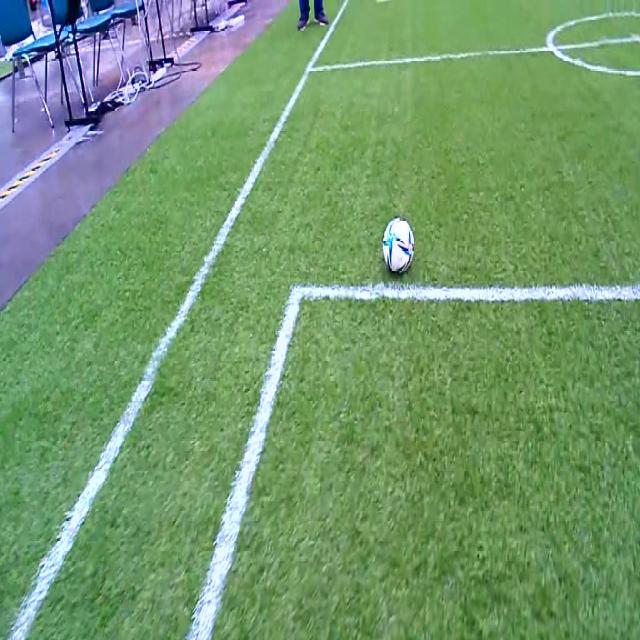ball: (382, 218, 414, 275)
